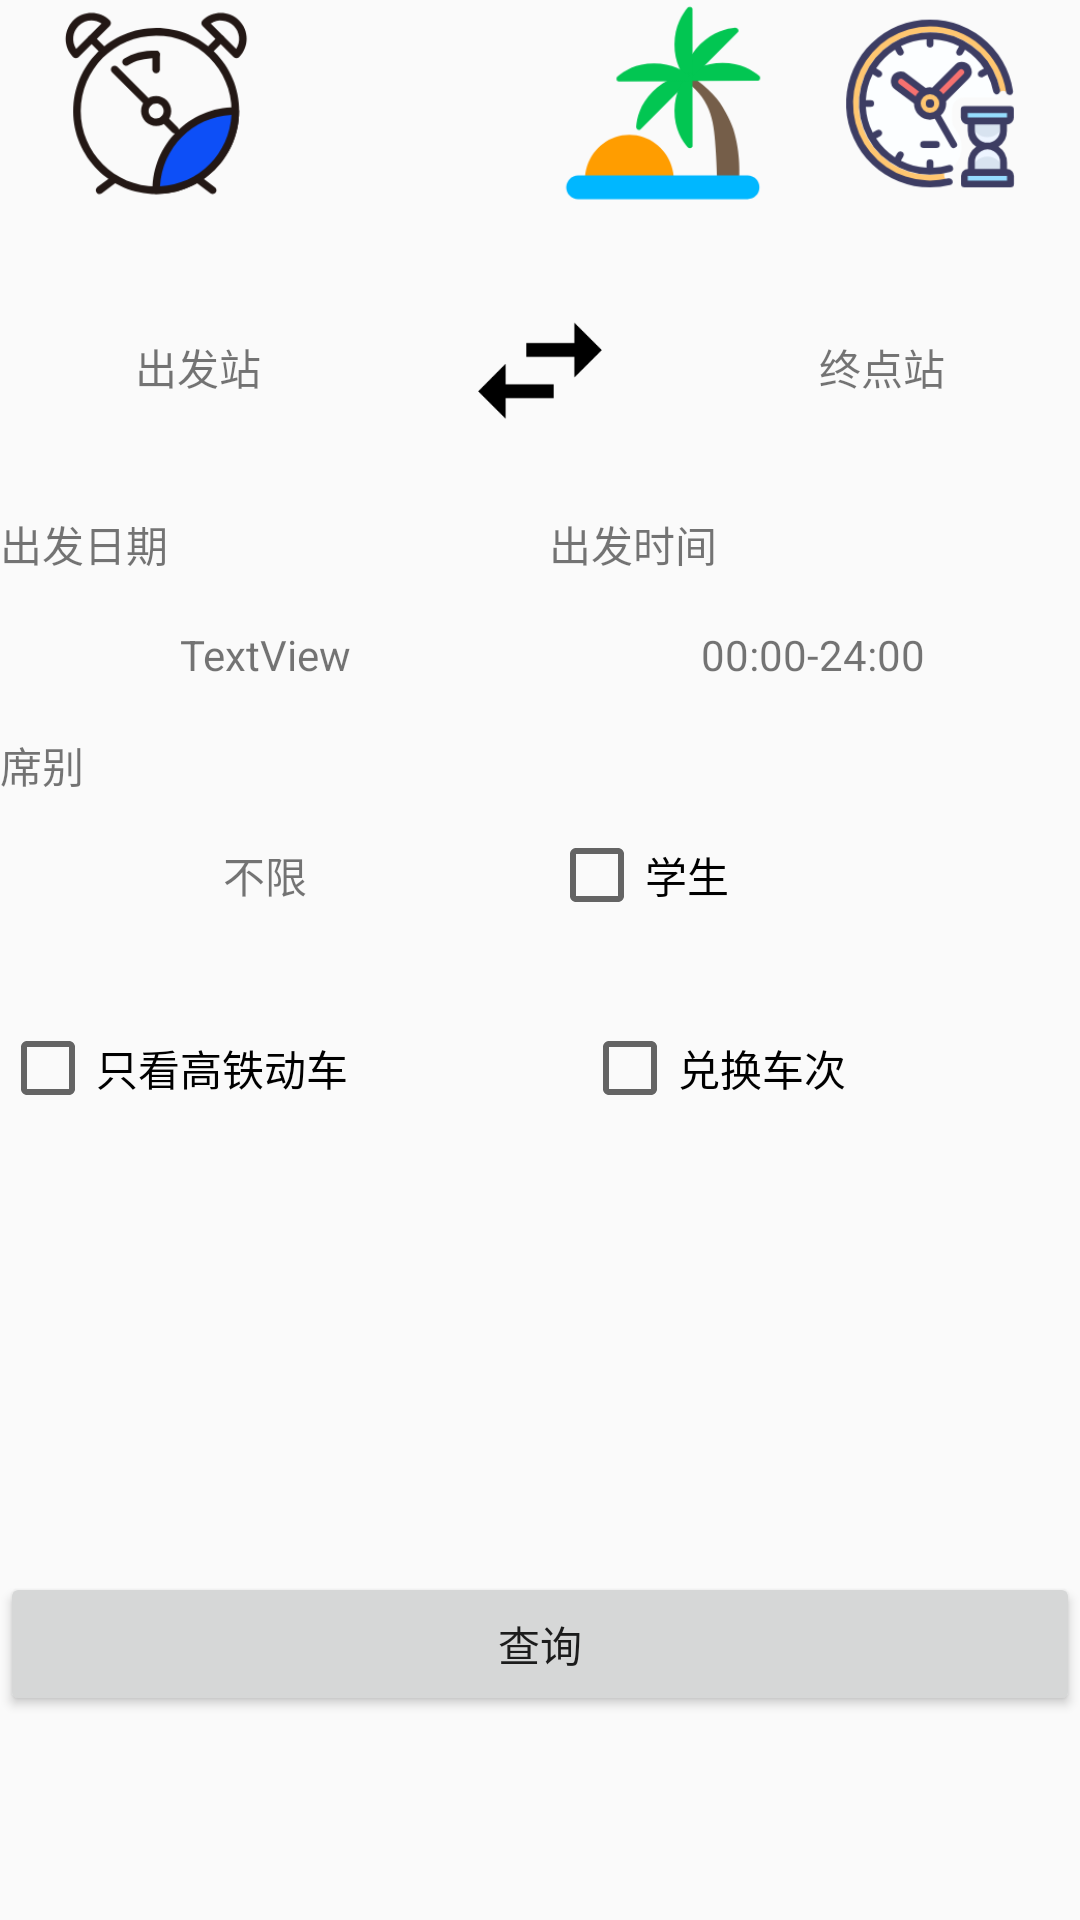

Screen size 1080 x 1920. Icon name, then its box in pixels as (x1, y1, x2, y2):
arrow: (478, 323, 602, 419)
ontime: (846, 19, 1014, 188)
travel: (565, 6, 761, 200)
